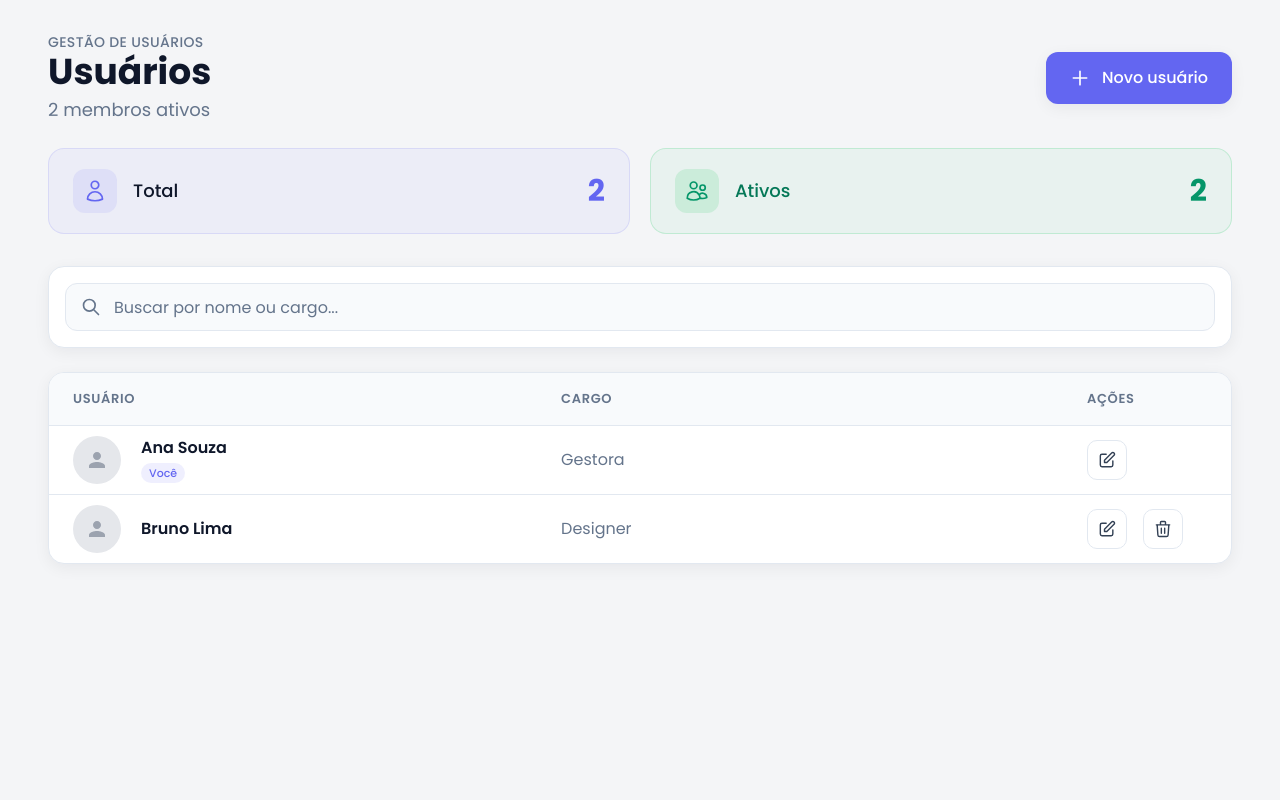
Test: Usuarios › exclusão › exclui o usuário depois da confirmação e recarrega a lista
Expected: the text "Ana Souza" is shown, 141,436 -> 227,460
Click the button titled "Excluir": (1163, 528) 1143,508 -> 1183,548
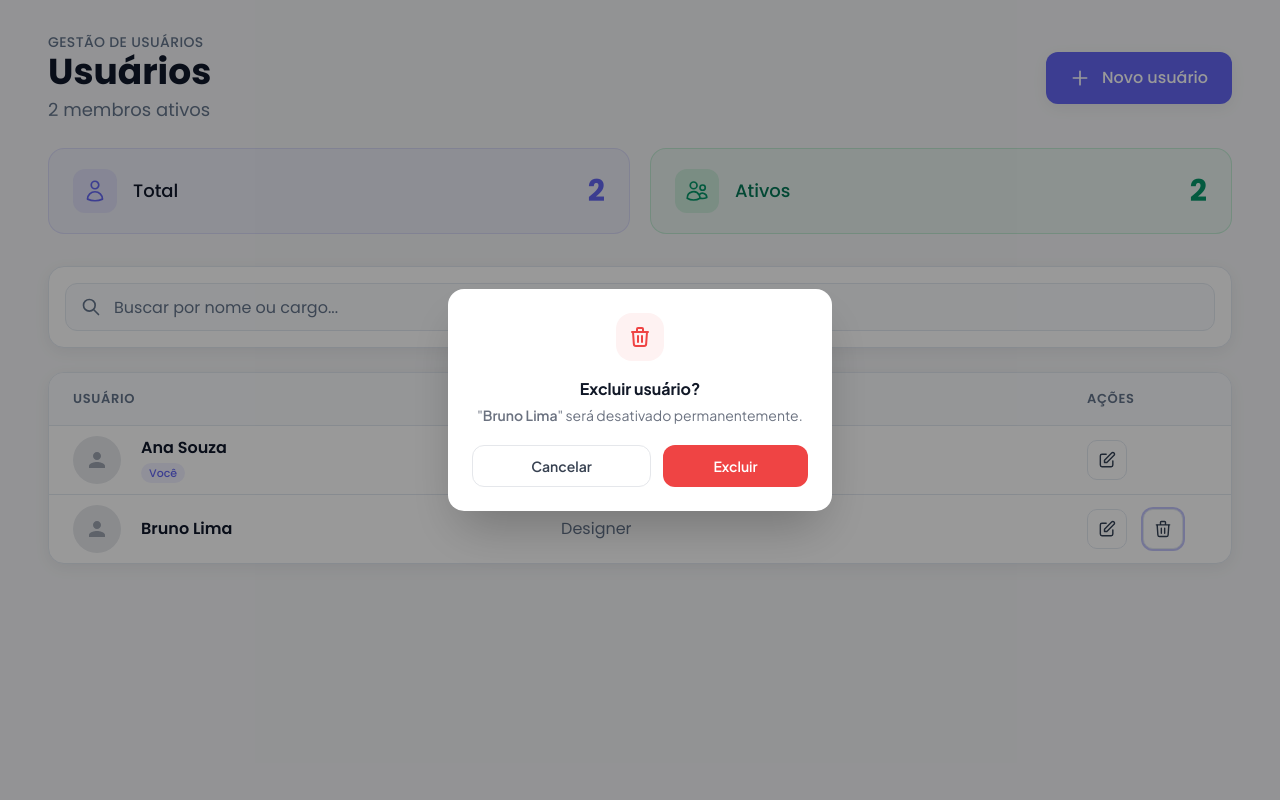
Click the button "Excluir": (736, 466) 663,445 -> 808,487
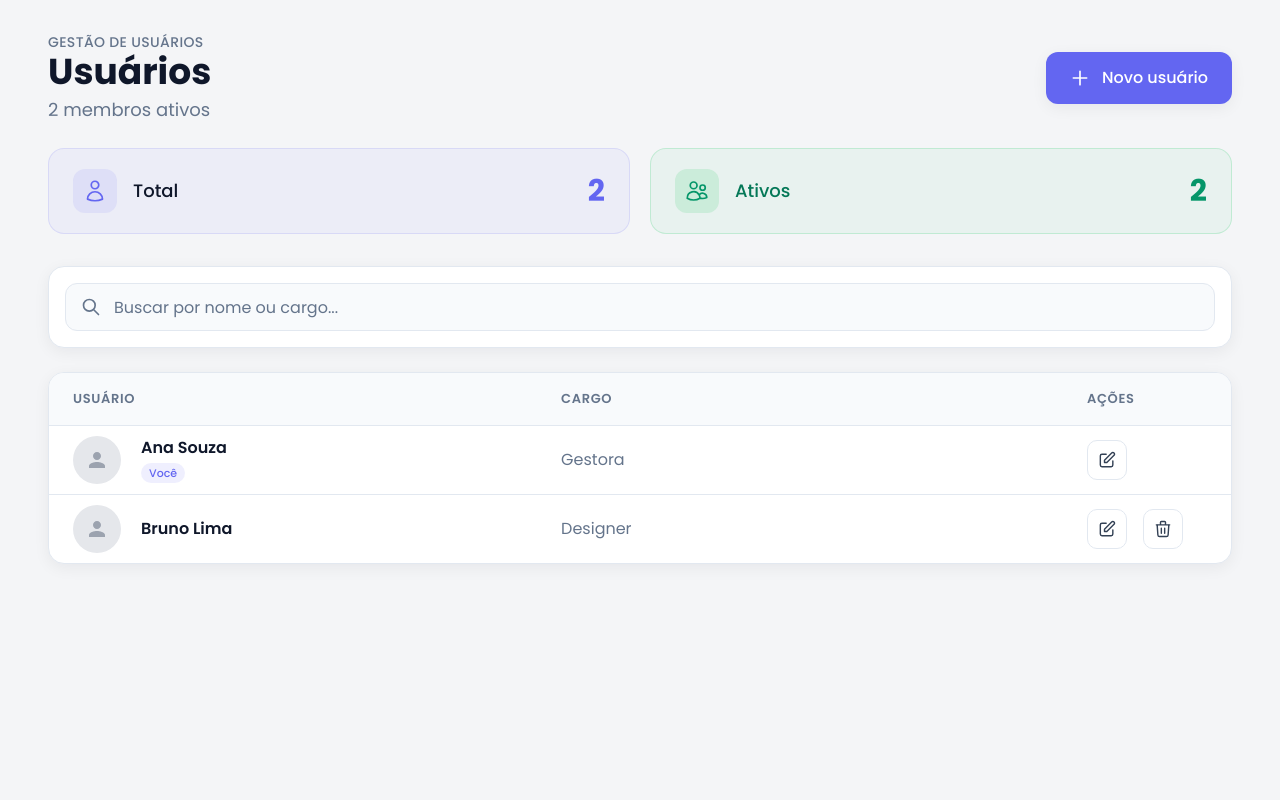
Expected: the heading "Excluir usuário?" is gone
